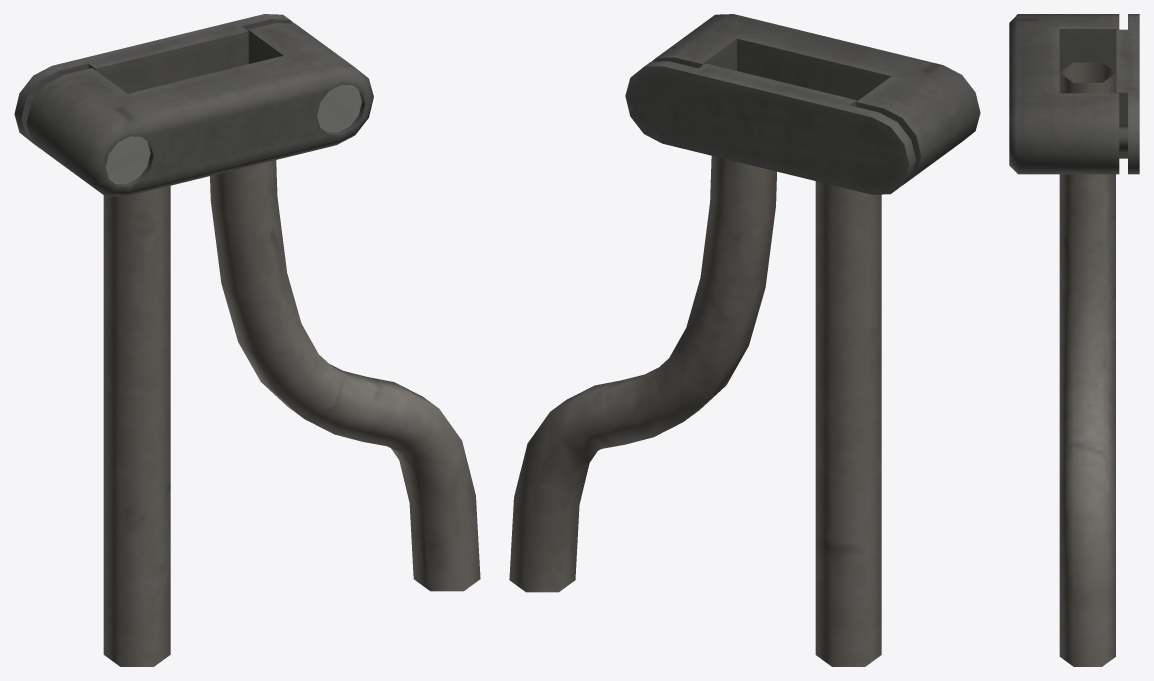
The model's file is cable_to_double_1.glb.
3 renders of one model, left to right at view 1: azimuth 30°, elevation 25°; view 2: azimuth 150°, elevation 25°; view 3: azimuth 270°, elevation 25°, orthographic. The views are drawn at different scales.
Visible parts, largest first — view 1: cable_to_double_1.001; view 2: cable_to_double_1.001; view 3: cable_to_double_1.001.
Part boxes in pixels (box(x1,y1,x2,y2)): cable_to_double_1.001: box(14, 14, 480, 666); cable_to_double_1.001: box(509, 14, 980, 666); cable_to_double_1.001: box(1009, 14, 1139, 666).
Bounding box in the file's own units: 0.0827 × 0.1073 × 0.0259.
Materials: 1 (1 with a texture image).
